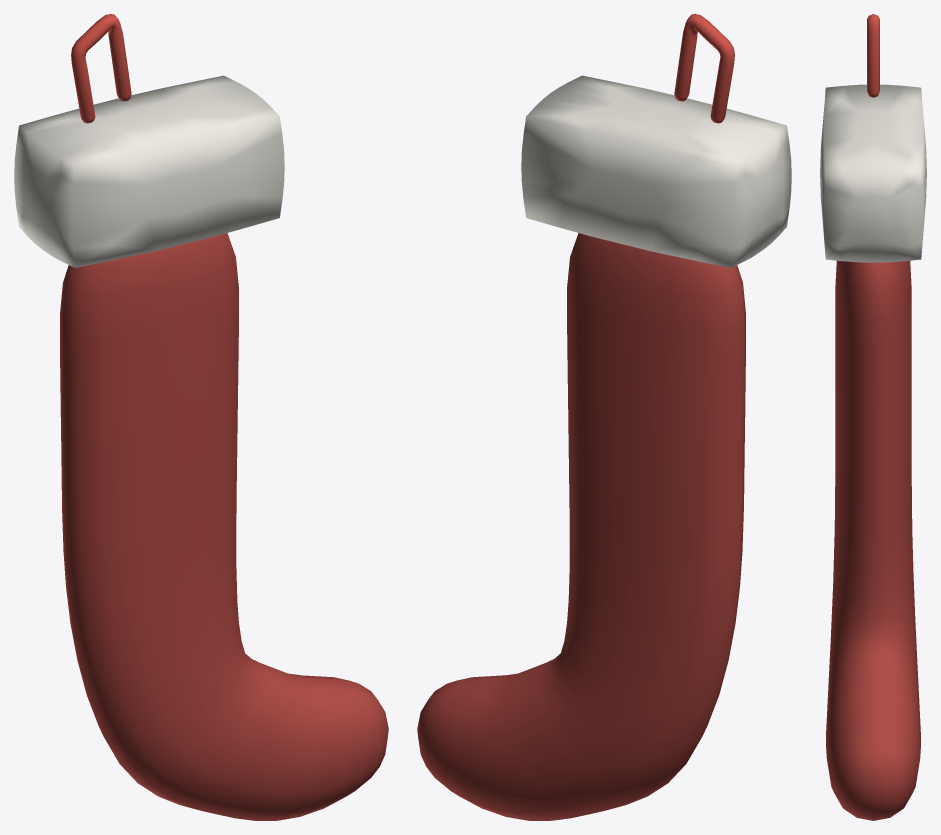
The model's file is stocking.glb.
3 views of the same model, side by side, from view 1: azimuth 30°, elevation 25°; view 2: azimuth 150°, elevation 25°; view 3: azimuth 270°, elevation 25° (orthographic). The views are drawn at different scales.
Visible parts, largest first — view 1: stocking; view 2: stocking; view 3: stocking.
Boxes of the visible parts, left/top/right/bottom form: stocking: left=14, top=14, right=388, bottom=820; stocking: left=417, top=14, right=791, bottom=820; stocking: left=820, top=14, right=926, bottom=820.
Bounding box in the file's own units: 0.2886 × 0.6672 × 0.09.
